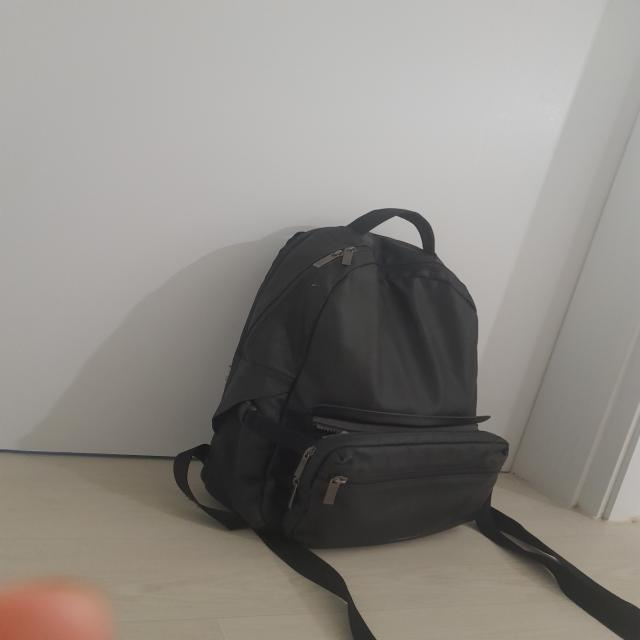backpack: (176, 205, 640, 640)
